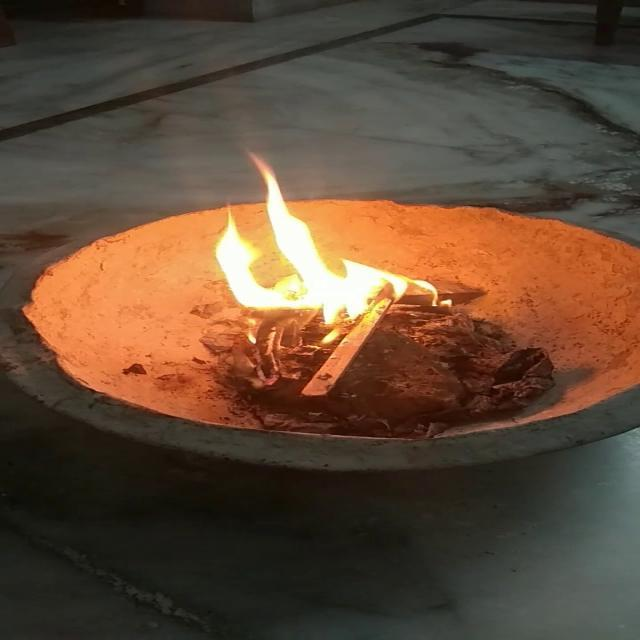Fire: (212, 169, 448, 318)
